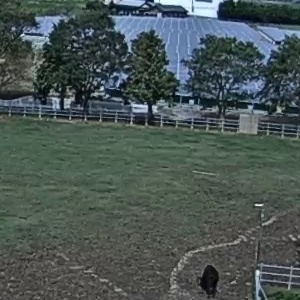cow: (189, 246, 225, 300)
